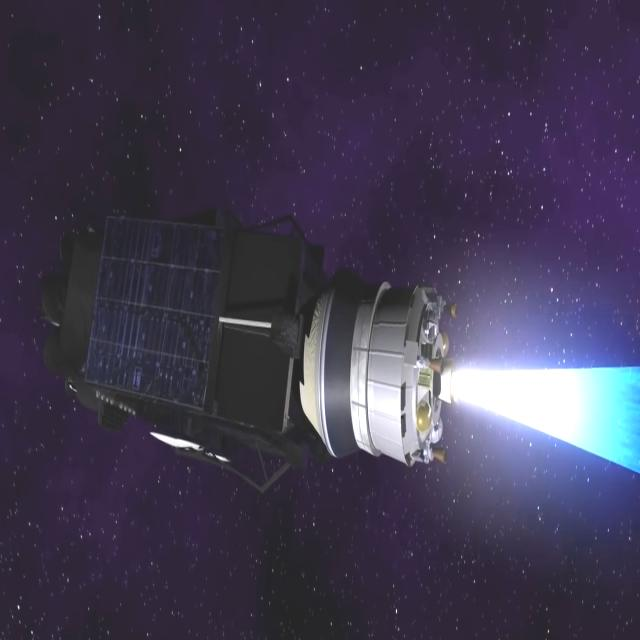satellite: (44, 258, 459, 500)
